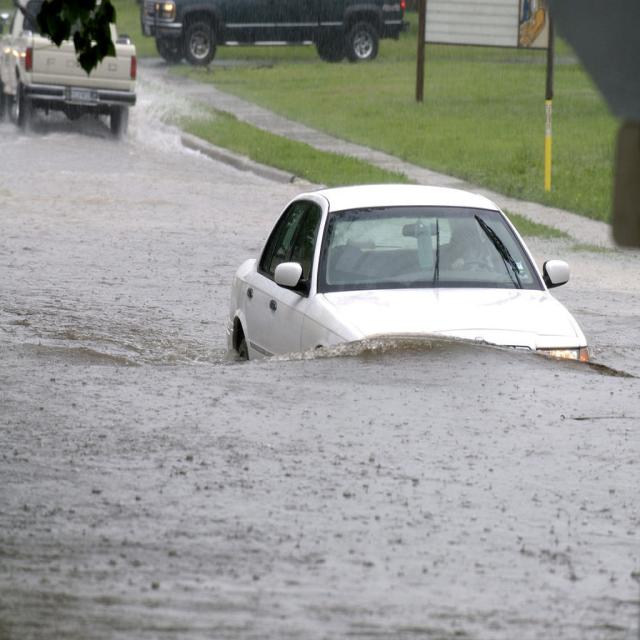FLOOD: (0, 85, 639, 639)
